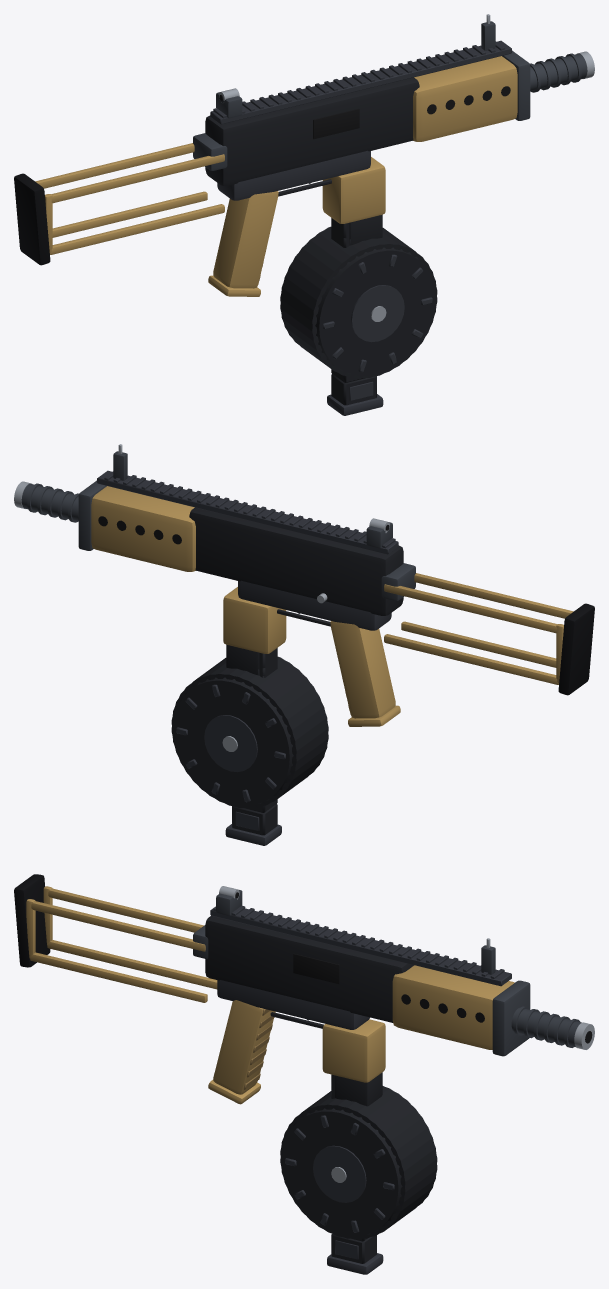
3 renders of one model, top to bottom at view 1: azimuth 30°, elevation 25°; view 2: azimuth 150°, elevation 25°; view 3: azimuth 330°, elevation 25°, orthographic.
Parts seen in each view (by area): view 1: vx9_body, mag_drum, vx9_stock, mag_ext; view 2: vx9_body, mag_drum, vx9_stock, mag_ext; view 3: vx9_body, mag_drum, vx9_stock, mag_ext.
Boxes of the visible parts, left/top/right/bottom form: vx9_body: left=205, top=14, right=594, bottom=296; mag_drum: left=280, top=214, right=437, bottom=378; vx9_stock: left=14, top=133, right=227, bottom=265; mag_ext: left=327, top=222, right=383, bottom=415; vx9_body: left=14, top=444, right=403, bottom=726; mag_drum: left=171, top=644, right=328, bottom=808; vx9_stock: left=381, top=563, right=594, bottom=695; mag_ext: left=225, top=650, right=281, bottom=845; vx9_body: left=205, top=886, right=594, bottom=1104; mag_drum: left=280, top=1072, right=437, bottom=1239; vx9_stock: left=14, top=874, right=217, bottom=1002; mag_ext: left=327, top=1074, right=383, bottom=1274.
Bounding box in the file's own units: 0.611 × 0.3705 × 0.076.
